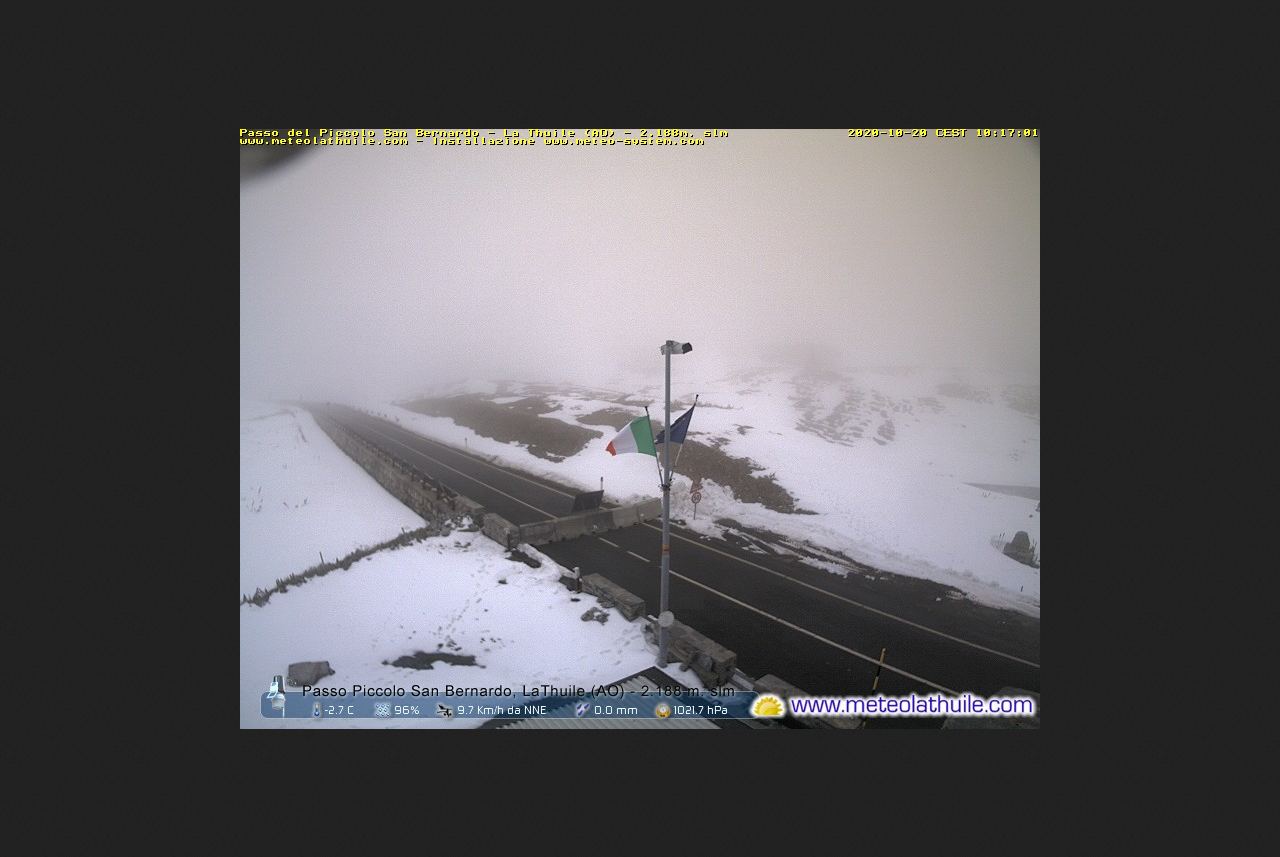maybe: (647, 397, 695, 450)
yes: (600, 412, 658, 457)
